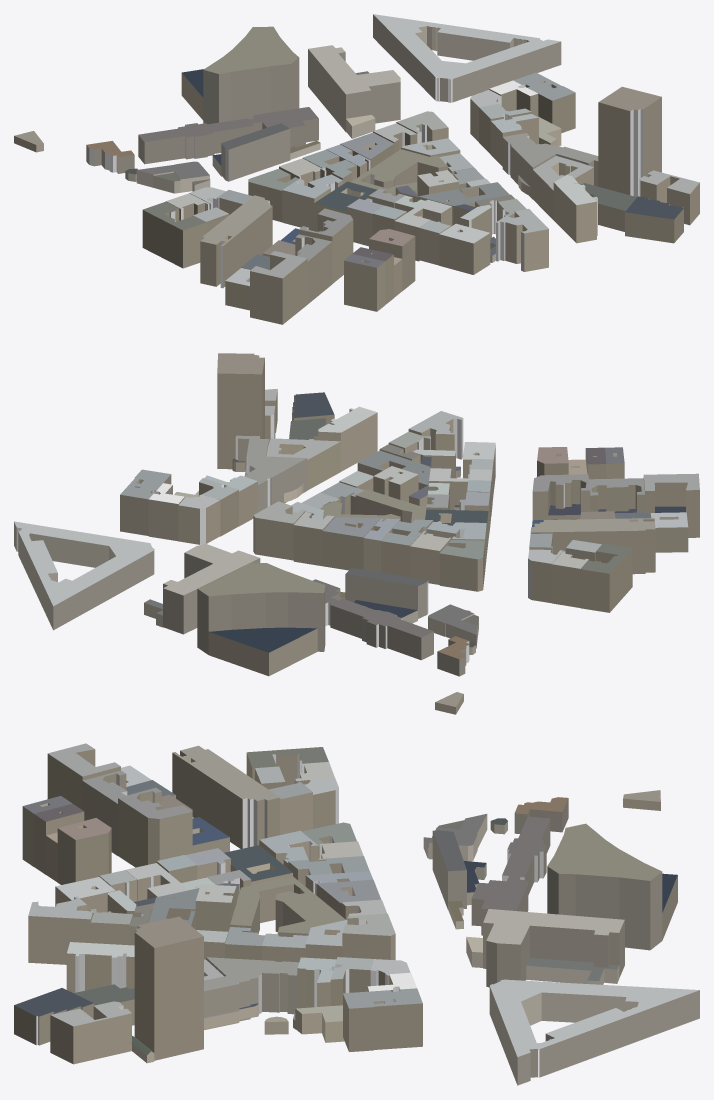
3 views of the same model, one above another, from view 1: azimuth 30°, elevation 25°; view 2: azimuth 150°, elevation 25°; view 3: azimuth 270°, elevation 25° (orthographic). The views are drawn at different scales.
Visible parts, largest first — view 1: tuile; view 2: tuile; view 3: tuile.
Boxes of the visible parts, bbox=[...] form: tuile: bbox=[14, 14, 699, 324]; tuile: bbox=[14, 353, 699, 714]; tuile: bbox=[14, 743, 699, 1085].
Bounding box in the file's own units: 285 × 51.39 × 279.
